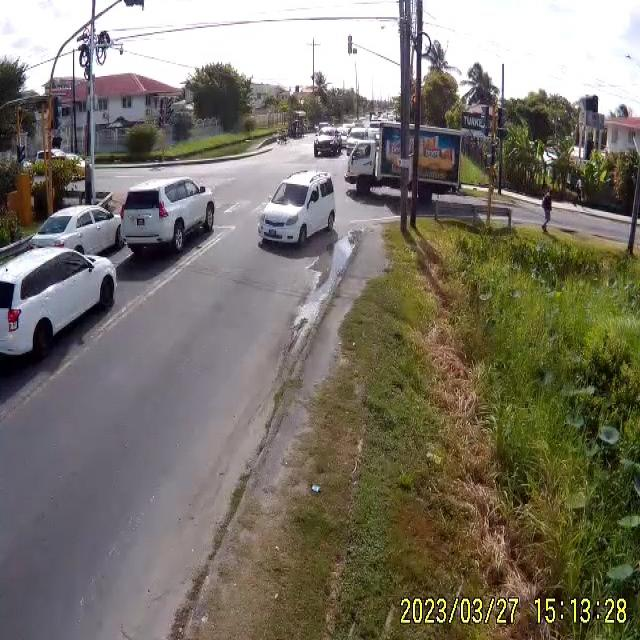car: (0, 242, 119, 377), (121, 176, 216, 260), (256, 170, 337, 250), (32, 206, 122, 254), (313, 132, 339, 156)
person: (541, 190, 553, 228)
truck: (344, 122, 460, 204)
